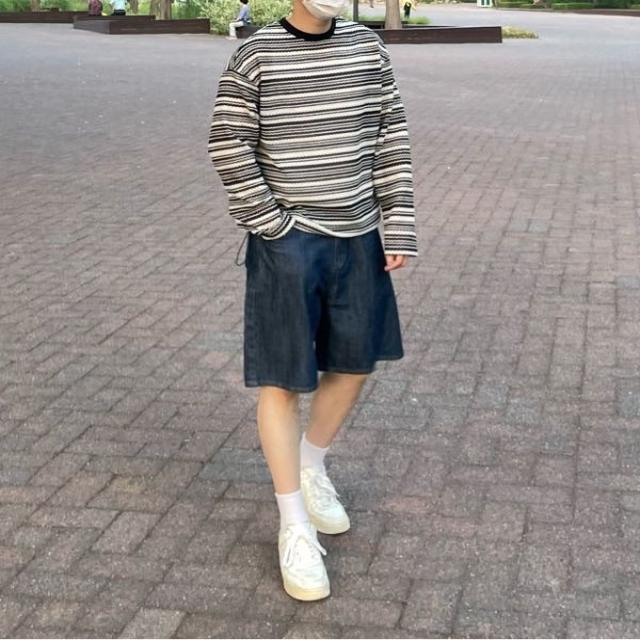longsleeve: (213, 12, 426, 257)
shortpants: (241, 222, 405, 391)
